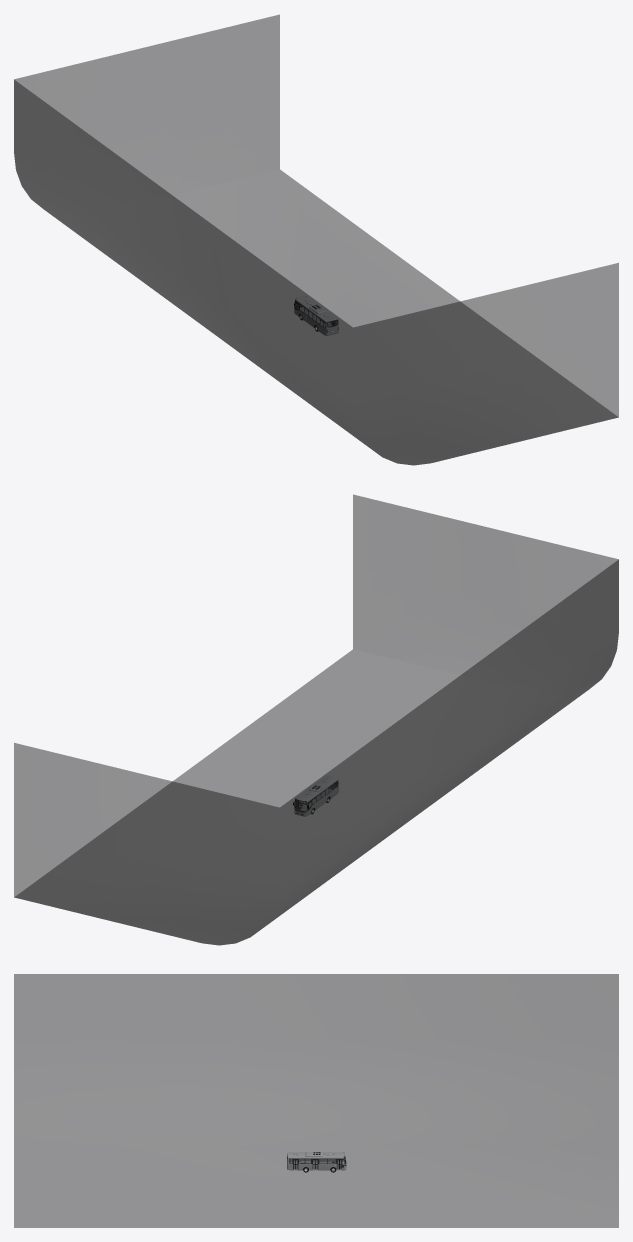
File: bus.glb
3 renders of one model, top to bottom at view 1: azimuth 30°, elevation 25°; view 2: azimuth 150°, elevation 25°; view 3: azimuth 270°, elevation 25°, orthographic. The views are drawn at different scales.
Visible parts, largest first — view 1: Object_11, Object_10; view 2: Object_11, Object_10; view 3: Object_11, Object_10, Object_15.
Boxes of the visible parts, left/top/right/bottom form: Object_11: left=14, top=14, right=618, bottom=465; Object_10: left=294, top=296, right=338, bottom=335; Object_11: left=14, top=494, right=618, bottom=945; Object_10: left=294, top=776, right=338, bottom=816; Object_11: left=14, top=974, right=618, bottom=1227; Object_10: left=287, top=1152, right=346, bottom=1170; Object_15: left=287, top=1152, right=346, bottom=1170.
Size of the model in its own units: 48.39 by 26.92 by 107.
Materials: 16 (11 with a texture image).
